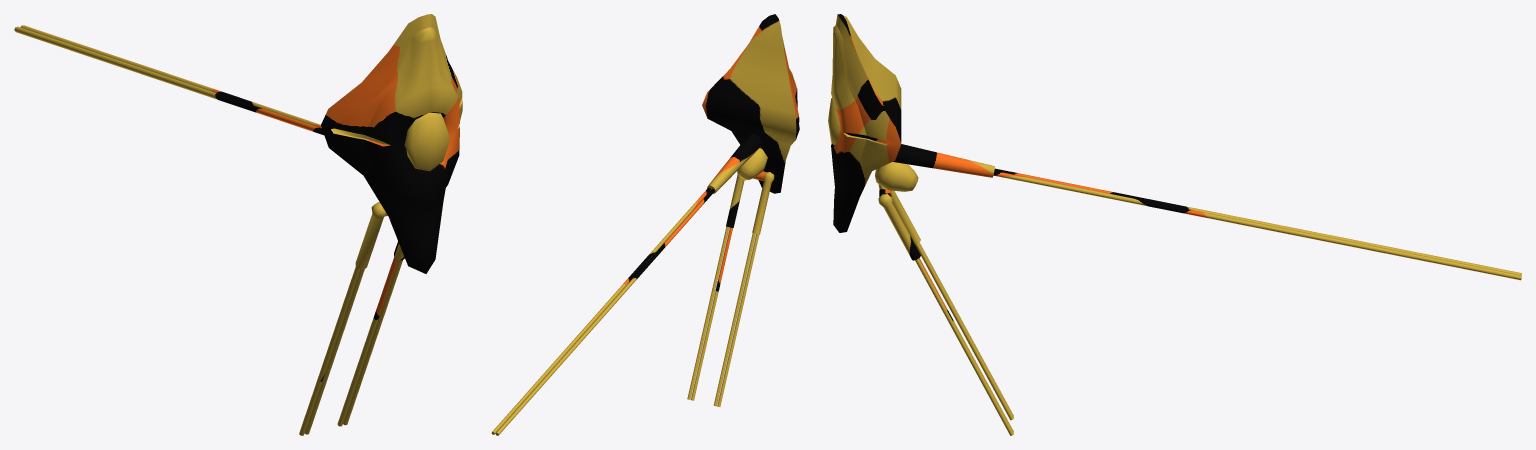
The model's file is SLEDGE_flyer_export.fbx.
3 renders of one model, left to right at view 1: azimuth 30°, elevation 25°; view 2: azimuth 150°, elevation 25°; view 3: azimuth 270°, elevation 25°, orthographic. The views are drawn at different scales.
Parts seen in each view (by area): view 1: body, wire.Center.R, wire.Center.L, wire.L.R, wire.R.L, wire.R.R, wire.L.L, leg.R; view 2: body, wire.Center.R, wire.Center.L, leg.Center, wire.L.L, wire.L.R, wire.R.R, wire.R.L, jet turbine, leg.R, leg.L; view 3: body, wire.Center.L, wire.Center.R, leg.Center, jet turbine, wire.L.L, wire.R.R, leg.L.
Part boxes in pixels (left/top/right/bottom): body: left=321, top=14, right=462, bottom=273; wire.Center.R: left=14, top=26, right=323, bottom=135; wire.Center.L: left=20, top=25, right=321, bottom=128; wire.L.R: left=337, top=257, right=398, bottom=426; wire.R.L: left=299, top=266, right=359, bottom=435; wire.R.R: left=304, top=269, right=364, bottom=434; wire.L.L: left=343, top=260, right=402, bottom=425; leg.R: left=355, top=202, right=386, bottom=269; body: left=702, top=14, right=799, bottom=193; wire.Center.R: left=495, top=188, right=714, bottom=435; wire.Center.L: left=491, top=188, right=710, bottom=434; leg.Center: left=707, top=133, right=762, bottom=193; wire.L.L: left=687, top=226, right=729, bottom=399; wire.L.R: left=691, top=227, right=732, bottom=400; wire.R.R: left=713, top=233, right=755, bottom=406; wire.R.L: left=717, top=234, right=759, bottom=406; jet turbine: left=737, top=148, right=767, bottom=180; leg.R: left=752, top=172, right=774, bottom=234; leg.L: left=726, top=171, right=744, bottom=227; body: left=828, top=14, right=901, bottom=232; wire.Center.L: left=993, top=171, right=1521, bottom=280; wire.Center.R: left=994, top=168, right=1521, bottom=275; leg.Center: left=893, top=144, right=994, bottom=177; jet turbine: left=875, top=162, right=918, bottom=191; wire.L.L: left=915, top=258, right=1013, bottom=435; wire.R.R: left=915, top=243, right=1013, bottom=420; leg.L: left=878, top=193, right=920, bottom=260.
Size of the model in its own units: 1.18 by 4.04 by 6.17.
